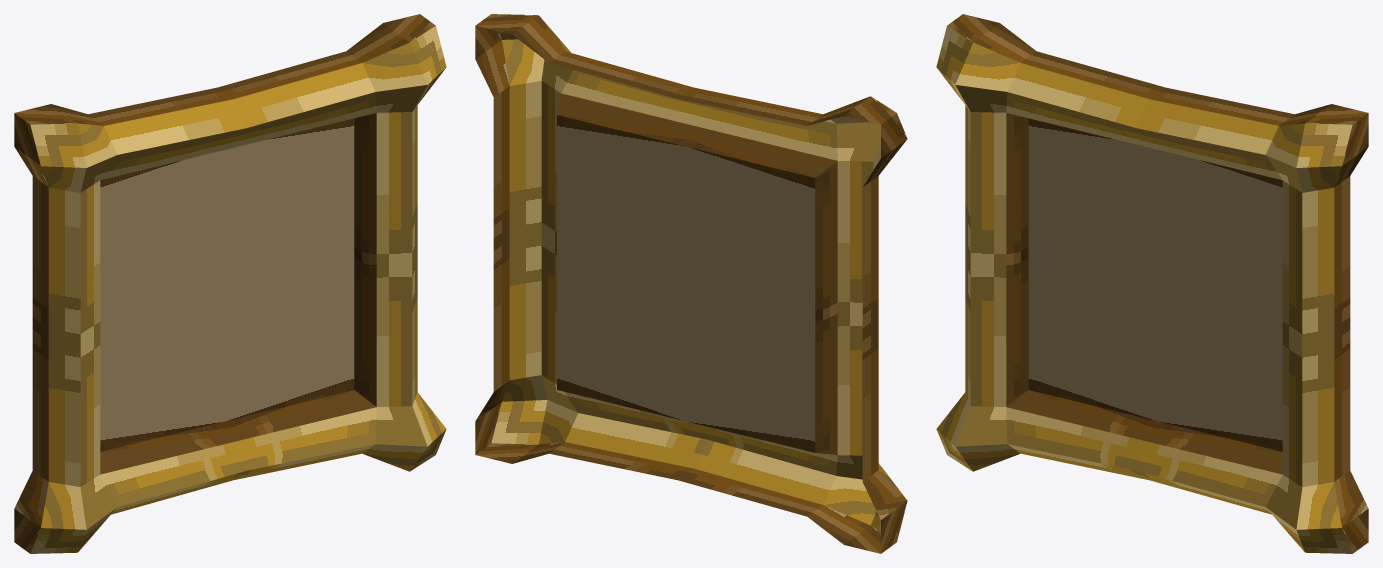
File: Model_Pictureframesmall.fbx
3 views of the same model, side by side, from view 1: azimuth 30°, elevation 25°; view 2: azimuth 150°, elevation 25°; view 3: azimuth 330°, elevation 25° (orthographic).
Parts seen in each view (by area): view 1: pPlane9; view 2: pPlane9; view 3: pPlane9.
Part boxes in pixels (bbox=[...]): pPlane9: bbox=[14, 14, 446, 553]; pPlane9: bbox=[475, 14, 907, 553]; pPlane9: bbox=[936, 14, 1368, 553].
Size of the model in its own units: 4.4 by 4.45 by 0.75.
